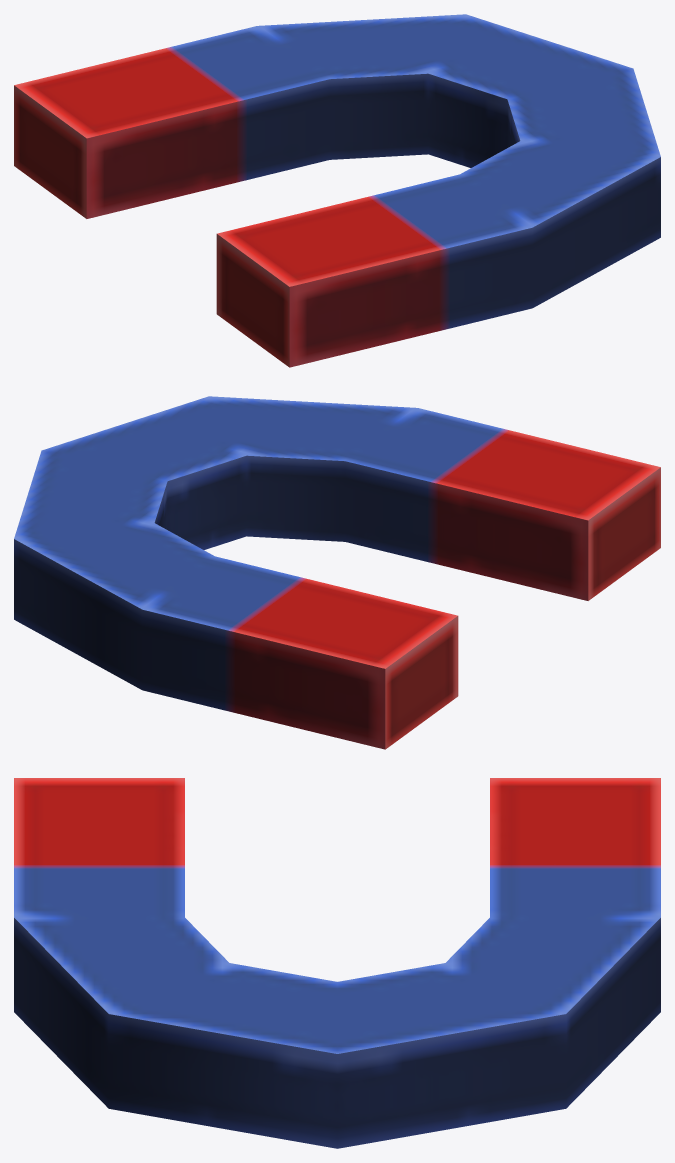
Rendered from Block_XiTieShi.FBX.
3 renders of one model, top to bottom at view 1: azimuth 30°, elevation 25°; view 2: azimuth 150°, elevation 25°; view 3: azimuth 270°, elevation 25°, orthographic. The views are drawn at different scales.
Visible parts, largest first — view 1: Block_XiTieShi; view 2: Block_XiTieShi; view 3: Block_XiTieShi.
Part boxes in pixels (x1=…): Block_XiTieShi: x1=14, y1=14, x2=660, y2=367; Block_XiTieShi: x1=14, y1=396, x2=660, y2=749; Block_XiTieShi: x1=14, y1=778, x2=660, y2=1148.
Bounding box in the file's own units: 17.17 × 2.75 × 17.01.
